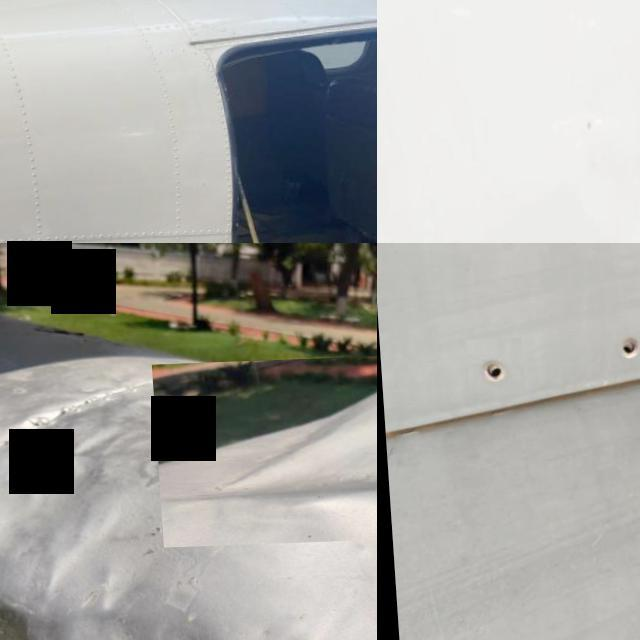Dent: (149, 354, 377, 549), (0, 410, 127, 627), (49, 558, 234, 640)
Missing_Fastener: (462, 338, 520, 396), (599, 320, 640, 373)
